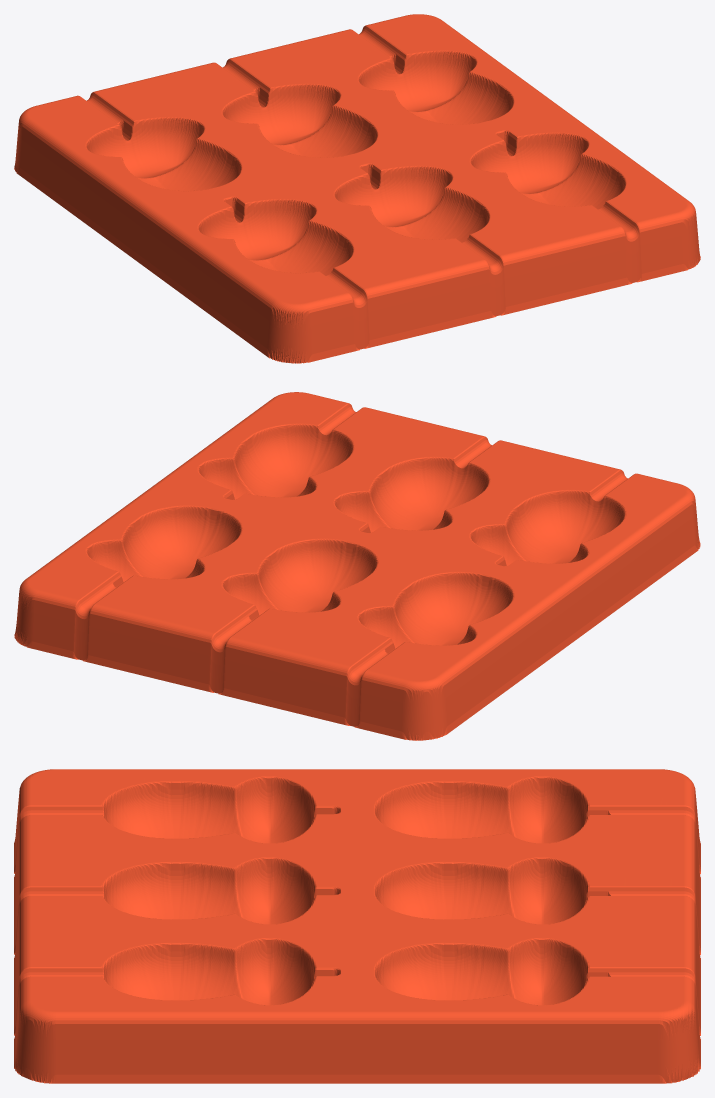
File: mold.glb
3 views of the same model, one above another, from view 1: azimuth 30°, elevation 25°; view 2: azimuth 150°, elevation 25°; view 3: azimuth 270°, elevation 25° (orthographic). The views are drawn at different scales.
Parts seen in each view (by area): view 1: geometry_0; view 2: geometry_0; view 3: geometry_0.
Part boxes in pixels (x1=…): geometry_0: x1=14, y1=14, x2=700, y2=363; geometry_0: x1=14, y1=392, x2=700, y2=740; geometry_0: x1=14, y1=769, x2=700, y2=1083.
Size of the model in its own units: 0.1299 by 0.0155 by 0.1477.
